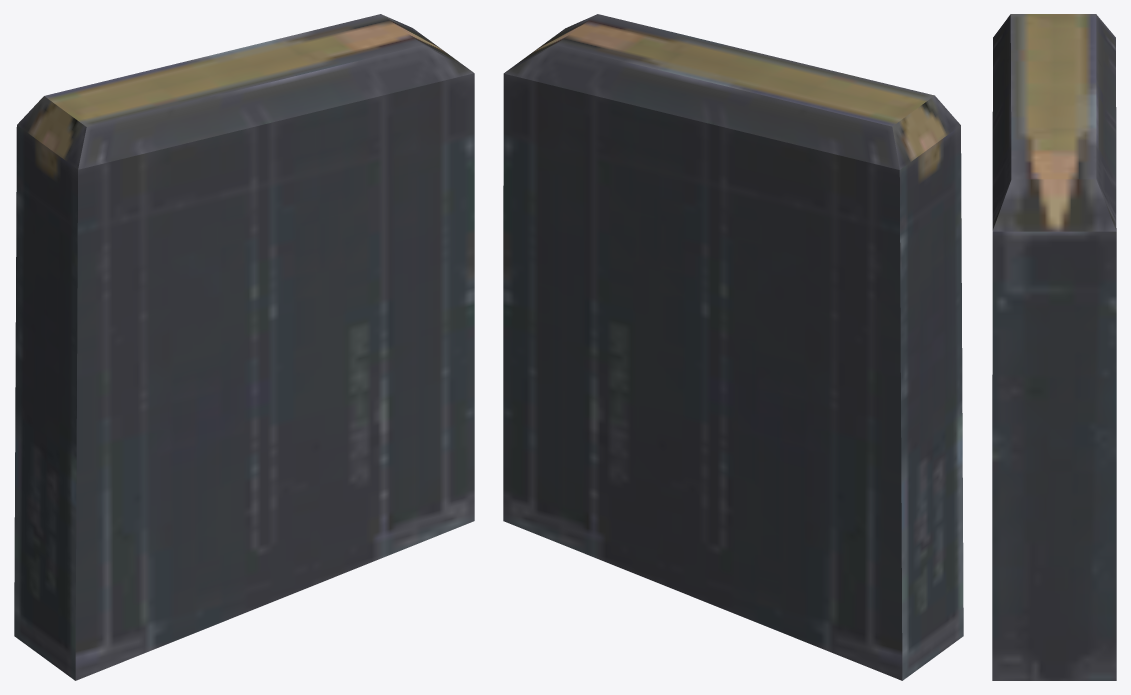
Rendered from ST_WEP_SLR_Mag_Lod.FBX.
3 views of the same model, side by side, from view 1: azimuth 30°, elevation 25°; view 2: azimuth 150°, elevation 25°; view 3: azimuth 270°, elevation 25° (orthographic).
Visible parts, largest first — view 1: ST_WEP_SLR_Mag_Lod; view 2: ST_WEP_SLR_Mag_Lod; view 3: ST_WEP_SLR_Mag_Lod.
Boxes of the visible parts, box(x1,y1,x2,y2) form: ST_WEP_SLR_Mag_Lod: box(14, 14, 474, 680); ST_WEP_SLR_Mag_Lod: box(503, 14, 963, 680); ST_WEP_SLR_Mag_Lod: box(992, 14, 1116, 680).
Size of the model in its own units: 8.22 by 10.68 by 2.21.
1 material, 1 textured.
